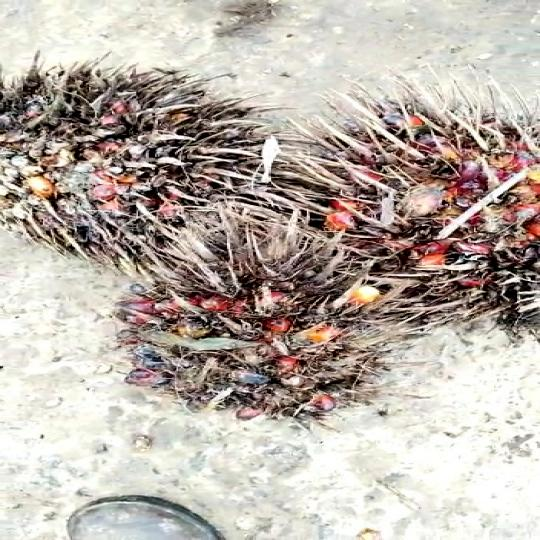terlalu masak: (265, 89, 540, 336), (100, 224, 404, 434), (0, 58, 286, 255)
